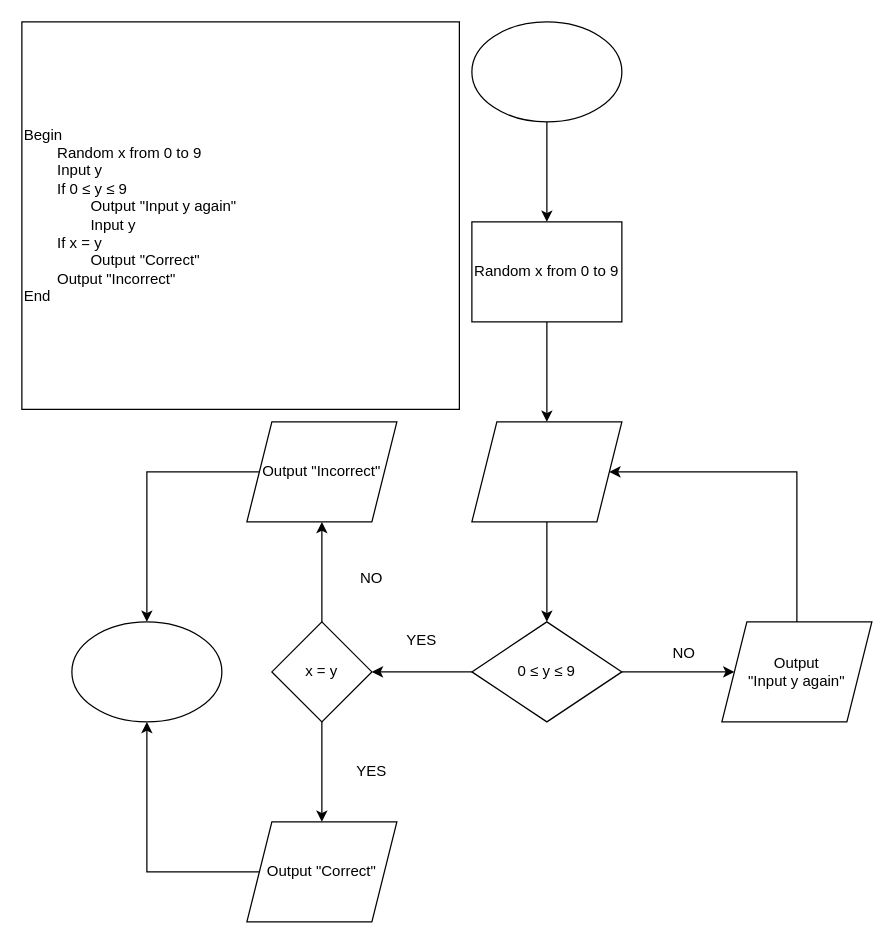
Some shapes in this 894 by 944 pixel diagram are drawn without their labels. Here are the shapes that lost their labels. From the top down, the centre of each, then its label:
At point (546, 71): "Begin".
At point (546, 471): "Input y".
At point (146, 671): "End".
